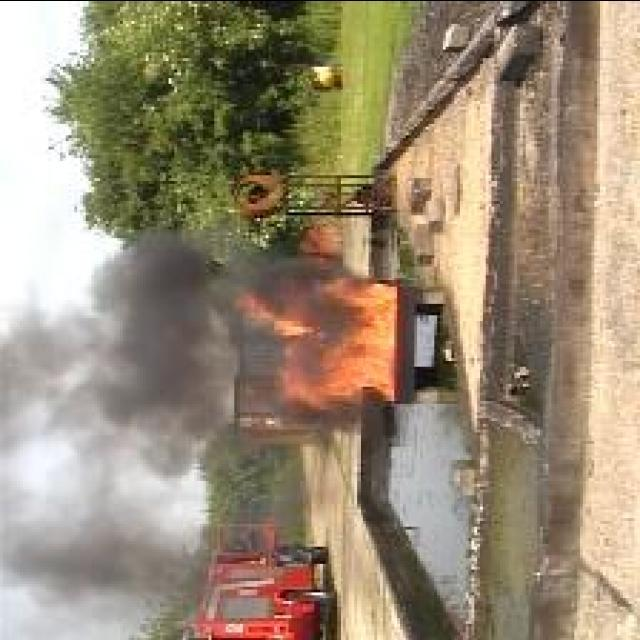Fire: (242, 279, 398, 412)
